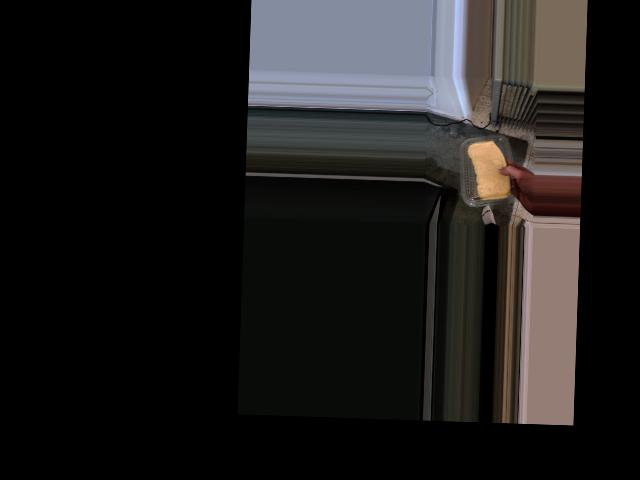cheese: (463, 134, 516, 207)
